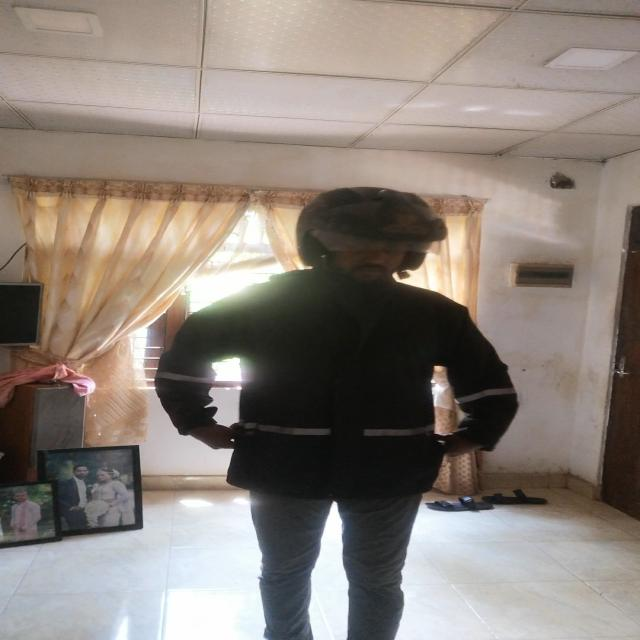Helmet_Wearer: (298, 190, 446, 292)
Jacket_Wearer: (181, 269, 539, 521)
Person: (155, 186, 503, 640)
